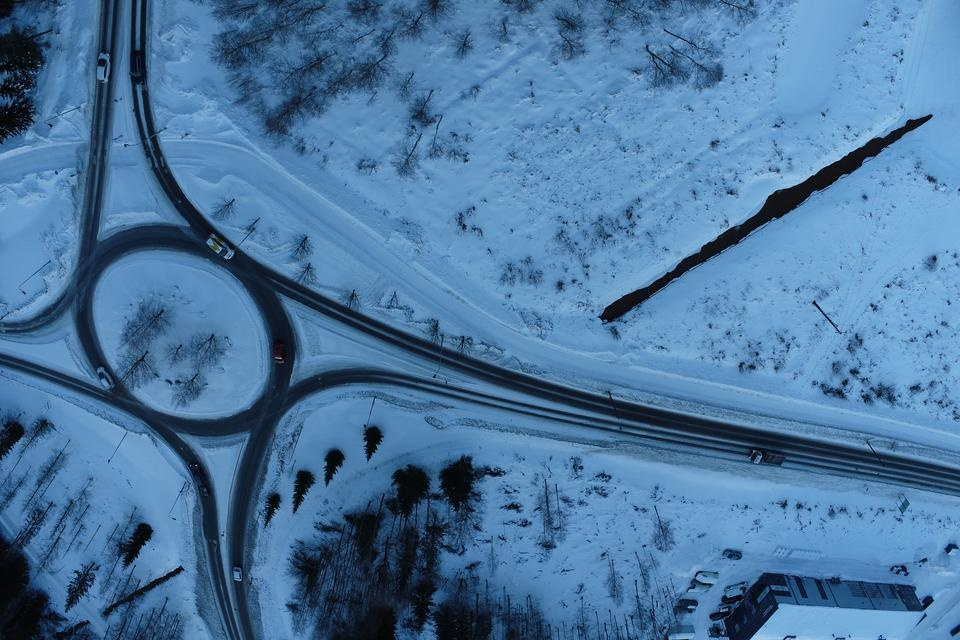roundabout: (52, 185, 327, 463)
